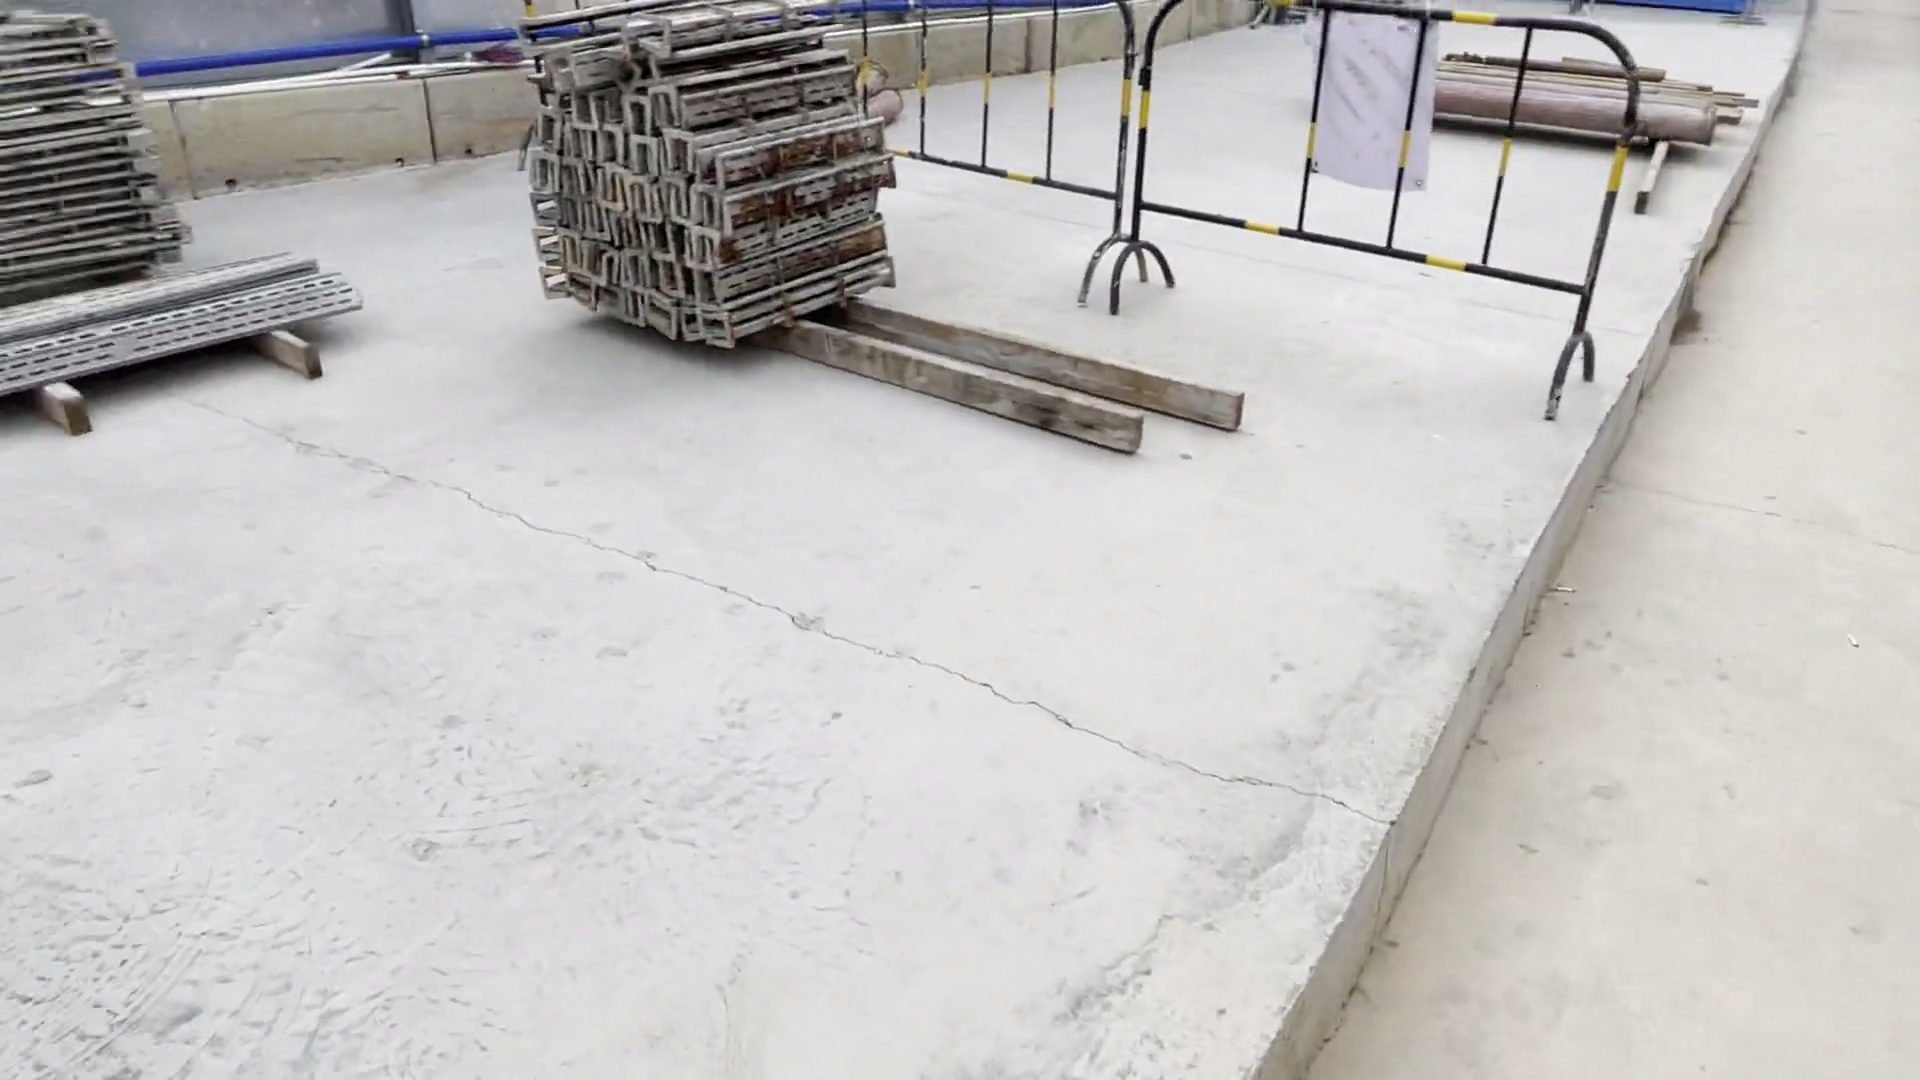fence: (895, 1, 1644, 423)
